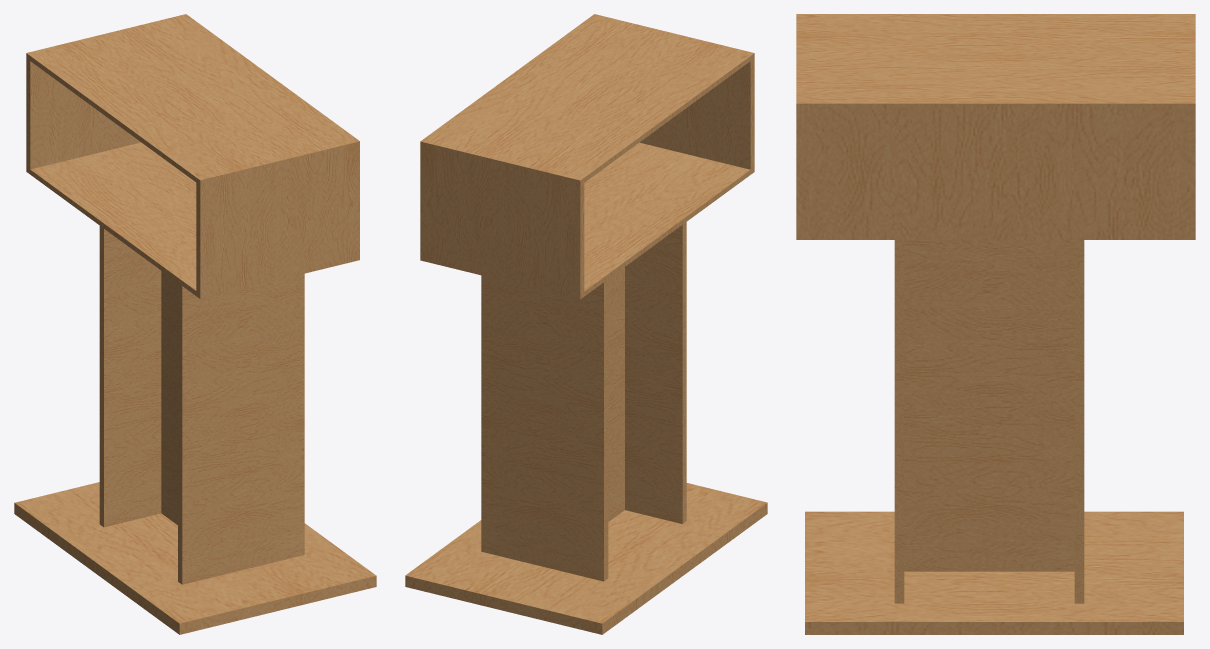
The model's file is lecture table4.FBX.
The picture shows the model from 3 angles, left to right: view 1: azimuth 30°, elevation 25°; view 2: azimuth 150°, elevation 25°; view 3: azimuth 270°, elevation 25°; orthographic projection. The views are drawn at different scales.
Parts seen in each view (by area): view 1: lecture table4; view 2: lecture table4; view 3: lecture table4.
Boxes of the visible parts, x1,y1,x2,y2 form: lecture table4: (14, 14, 376, 634); lecture table4: (405, 14, 767, 634); lecture table4: (796, 14, 1195, 634).
Size of the model in its own units: 4.41 by 9.71 by 6.75.
